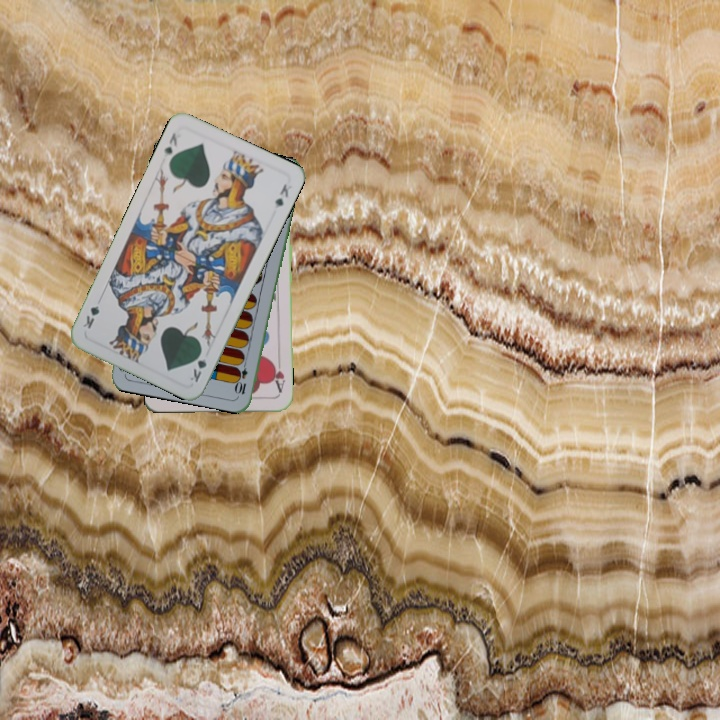E10: (233, 356, 250, 397)
GK: (186, 345, 209, 385), (159, 129, 180, 161)
HA: (269, 357, 288, 397)
